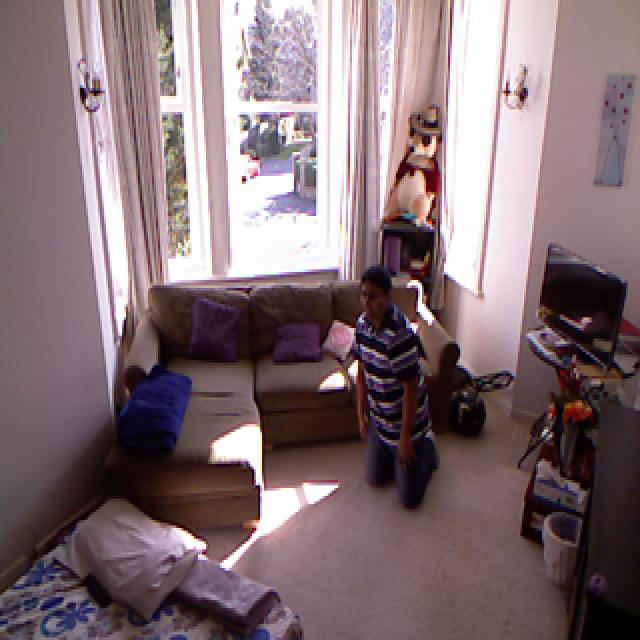crawling: (348, 267, 442, 512)
